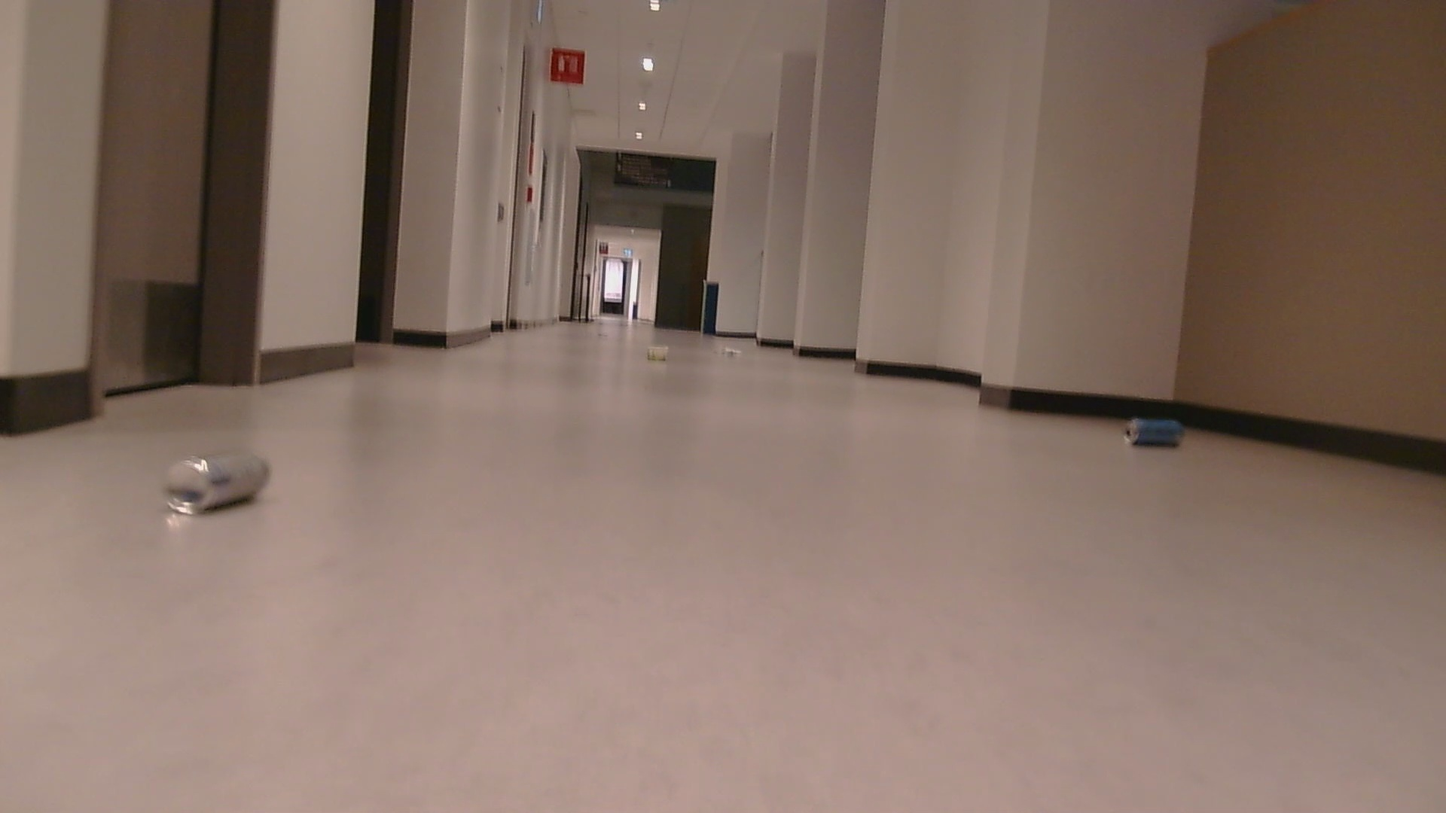carton: (148, 435, 281, 528), (1125, 413, 1203, 454), (640, 334, 678, 366), (715, 342, 747, 360)
